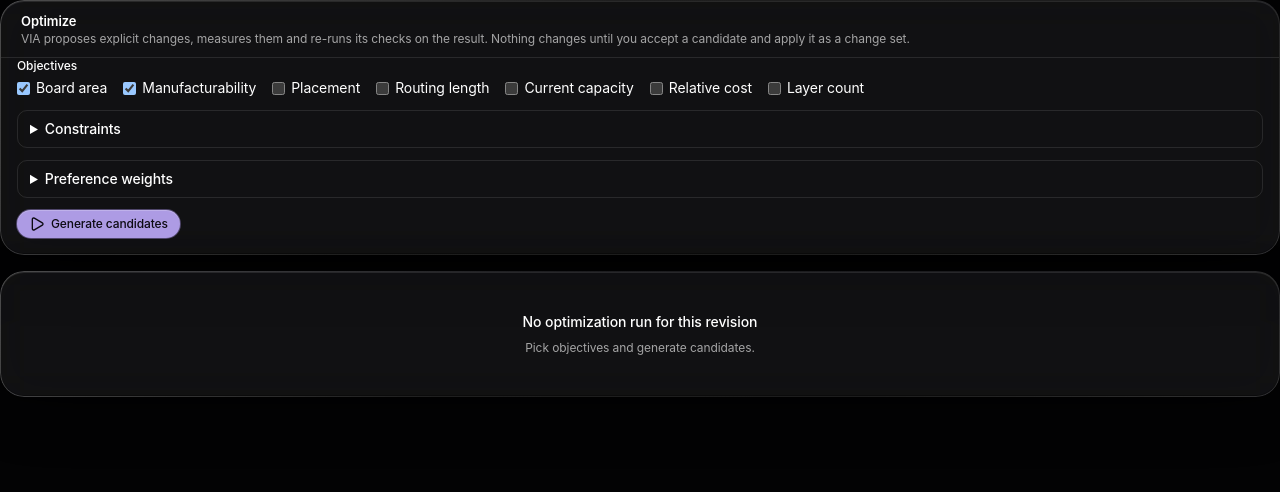
Test: OptimizePanel › says pricing isn't set up when the server has no key
This screenshot has width=1280, height=492.
Click the checkbox labelled "Relative cost" at (656, 88), box [650, 82, 663, 95]
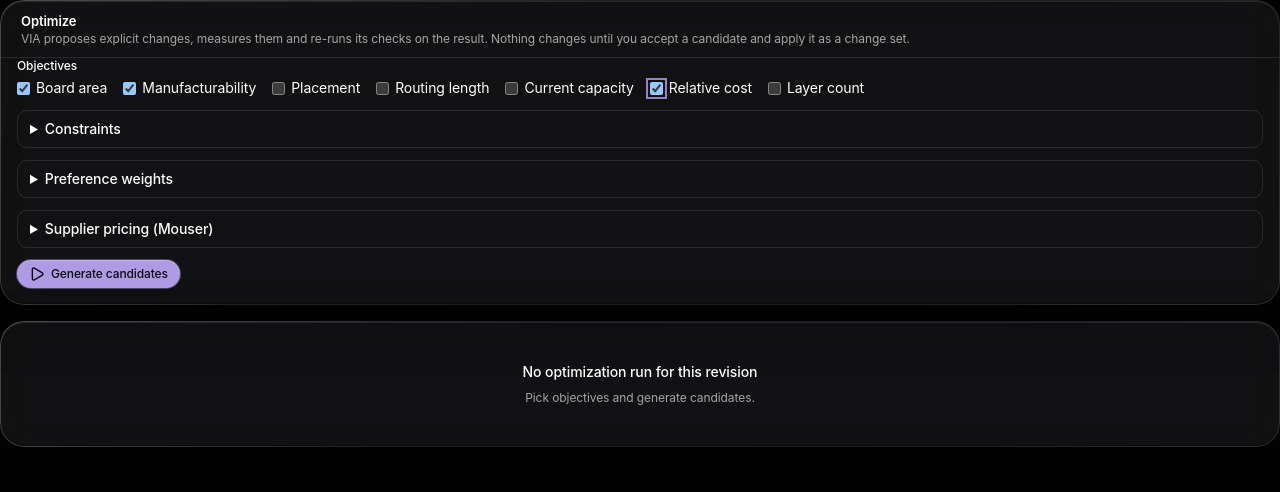
Click the heading "Supplier pricing (Mouser)" at (129, 229), box [45, 220, 213, 237]
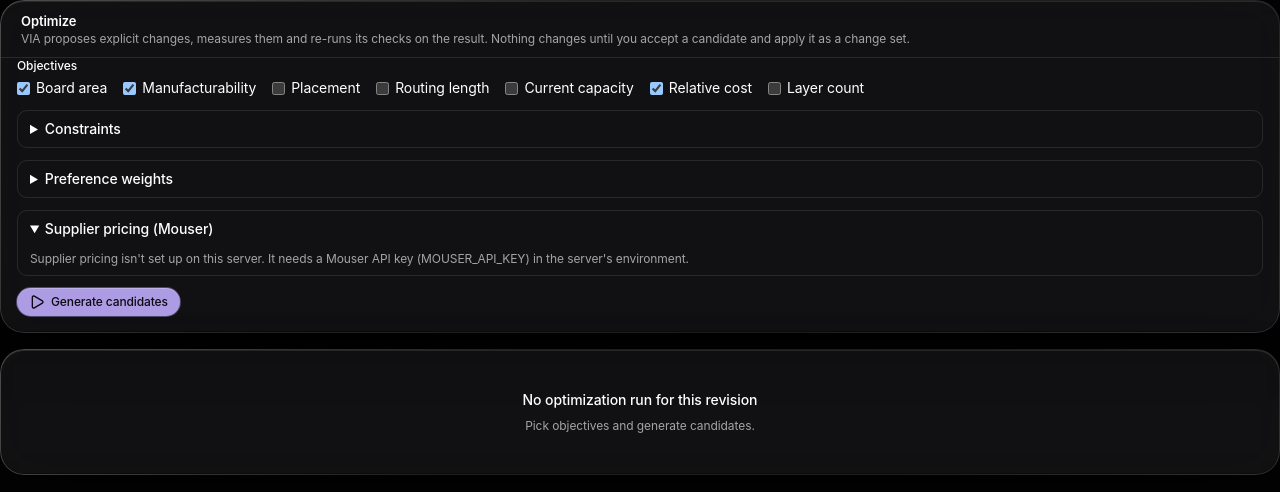
Expected: the text "MOUSER_API_KEY" is shown, [30, 251, 689, 266]
